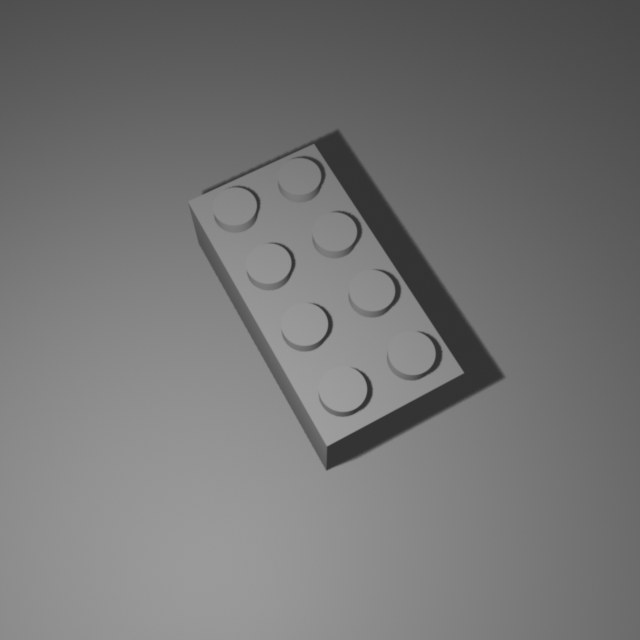lego_2x4: (186, 136, 467, 471)
